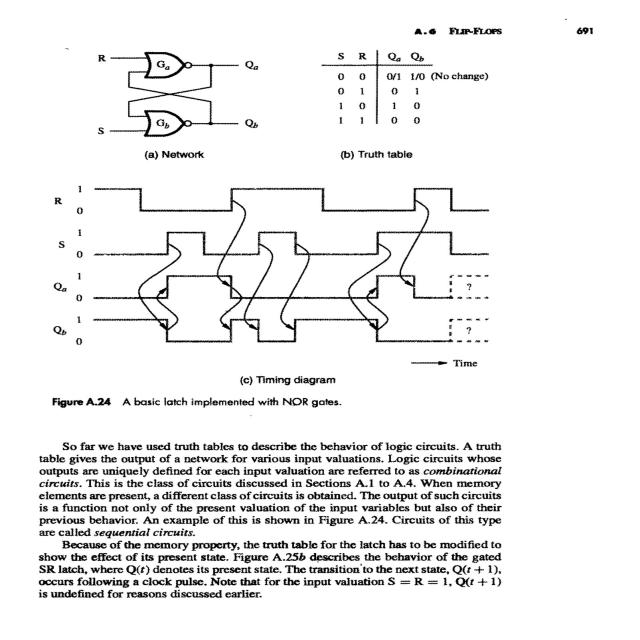diagram: (10, 49, 550, 414)
